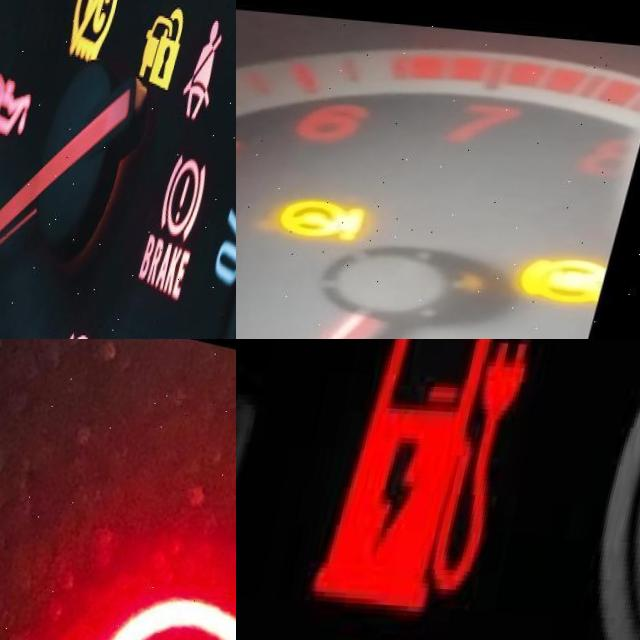Electronic Power Steering Warning: (279, 191, 381, 244)
Seat Belt: (196, 14, 234, 115)
